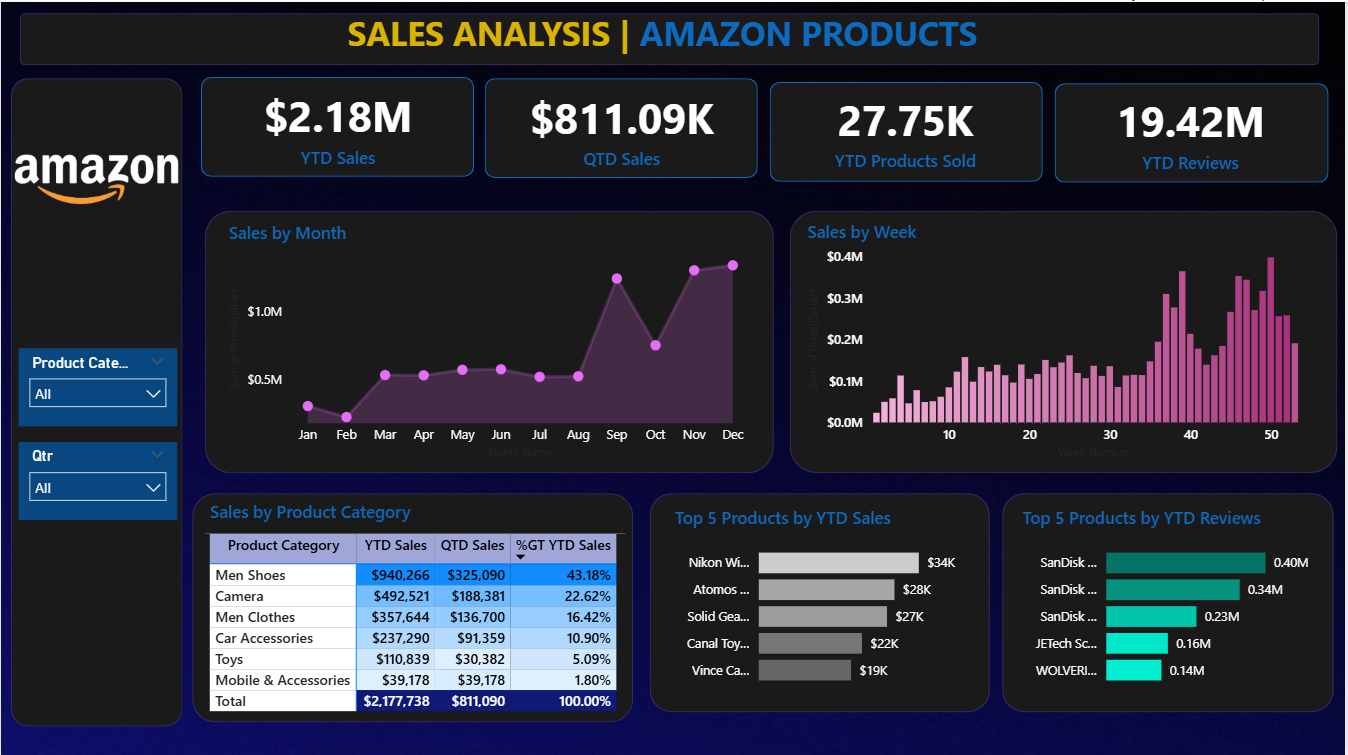

What the dashboard file says about the page in this screenshot:
{"tool":"powerbi","page":{"name":"Page 1","canvas":[1280,720],"ordinal":0},"visuals":[{"type":"shape","box":[190.7,71.4,260,95],"z":0,"group":"g1"},{"type":"shape","box":[17.8,11,1237.7,49.4],"z":0},{"type":"textbox","box":[325.2,2.7,646.3,57.6],"z":1000},{"type":"card","fields":{"Values":["Amazon_Data.YTD Sales"]},"box":[215.4,76.9,211.3,83.7],"z":1000,"group":"g1"},{"type":"shape","box":[461.3,72.6,260,95],"z":2000,"group":"g1"},{"type":"shape","box":[9.6,72.7,163.3,617.5],"z":2000},{"type":"card","fields":{"Values":["Amazon_Data.QTD Sales"]},"box":[485.7,78.3,211.3,83.7],"z":3000,"group":"g1"},{"type":"shape","box":[1003.1,76.8,260.7,94.7],"z":3000},{"type":"shape","box":[731.9,75.9,260,95],"z":4000,"group":"g1"},{"type":"group","id":"g1","title":"Group 1","box":[190.7,71.4,1048.4,100.2],"z":4000},{"type":"card","fields":{"Values":["Amazon_Data.YTD Products Sold"]},"box":[756.1,81,211.3,83.7],"z":5000,"group":"g1"},{"type":"shape","box":[193.5,198.7,542,250],"z":5000},{"type":"card","fields":{"Values":["Amazon_Data.YTD Reviews"]},"box":[1027.2,82.5,211.3,83.7],"z":6000,"group":"g1"},{"type":"areaChart","title":"Sales by Month","fields":{"Category":["Date Table.Month Name"],"Y":["Sum(Amazon_Data.Price(Dollar))"]},"box":[211.3,208.3,505,231.9],"z":6000},{"type":"shape","box":[750.6,199,521.4,249.7],"z":7000},{"type":"columnChart","title":"Sales by Week","fields":{"Category":["Date Table.Week Number"],"Y":["Sum(Amazon_Data.Price(Dollar))"]},"box":[763,207.2,496.7,233.3],"z":8000},{"type":"shape","box":[182.5,467.9,419.9,218.2],"z":9000},{"type":"pivotTable","title":"Sales by Product Category","fields":{"Rows":["Amazon_Data.Product Category"],"Values":["Amazon_Data.YTD Sales1","Amazon_Data.QTD Sales","Amazon_Data.YTD Sales"]},"box":[193.5,473.4,400.7,212.7],"z":9001},{"type":"shape","box":[617.5,467.9,323.8,208.6],"z":9002},{"type":"barChart","title":"Top 5 Products by YTD Sales","fields":{"Category":["Amazon_Data.Product Description"],"Y":["Amazon_Data.YTD Sales"]},"box":[636.7,480.3,288.2,182.5],"z":9003},{"type":"shape","box":[953.7,467.9,315.6,208.6],"z":9004},{"type":"barChart","title":"Top 5 Products by YTD Reviews","fields":{"Category":["Amazon_Data.Product Description"],"Y":["Amazon_Data.YTD Reviews"]},"box":[967.4,480.3,288.2,182.5],"z":9005},{"type":"slicer","fields":{"Values":["Amazon_Data.Product Category"]},"box":[16.5,329.3,150.9,74.1],"z":9006},{"type":"slicer","fields":{"Values":["Date Table.Qtr"]},"box":[16.5,418.5,150.9,74.1],"z":9007},{"type":"image","box":[8.2,102.9,167.4,142.7],"z":9008}]}

Visuals, with their boxes in screenshot pixels (x1, y1, x2, y2), scaled from the page's 1280x720 canvas onto the 1348x755 screenshot:
shape: bbox(201, 75, 475, 174)
shape: bbox(19, 12, 1322, 63)
textbox: bbox(342, 3, 1023, 63)
card - Amazon_Data.YTD Sales: bbox(227, 81, 449, 168)
shape: bbox(486, 76, 760, 176)
shape: bbox(10, 76, 182, 724)
card - Amazon_Data.QTD Sales: bbox(512, 82, 734, 170)
shape: bbox(1056, 81, 1331, 180)
shape: bbox(771, 80, 1045, 179)
"Group 1" group: bbox(201, 75, 1305, 180)
card - Amazon_Data.YTD Products Sold: bbox(796, 85, 1019, 173)
shape: bbox(204, 208, 775, 471)
card - Amazon_Data.YTD Reviews: bbox(1082, 87, 1304, 174)
"Sales by Month" areaChart: bbox(223, 218, 754, 462)
shape: bbox(790, 209, 1340, 471)
"Sales by Week" columnChart: bbox(804, 217, 1327, 462)
shape: bbox(192, 491, 634, 719)
"Sales by Product Category" pivotTable: bbox(204, 496, 626, 719)
shape: bbox(650, 491, 991, 709)
"Top 5 Products by YTD Sales" barChart: bbox(671, 504, 974, 695)
shape: bbox(1004, 491, 1337, 709)
"Top 5 Products by YTD Reviews" barChart: bbox(1019, 504, 1322, 695)
slicer - Amazon_Data.Product Category: bbox(17, 345, 176, 423)
slicer - Date Table.Qtr: bbox(17, 439, 176, 517)
image: bbox(9, 108, 185, 258)
